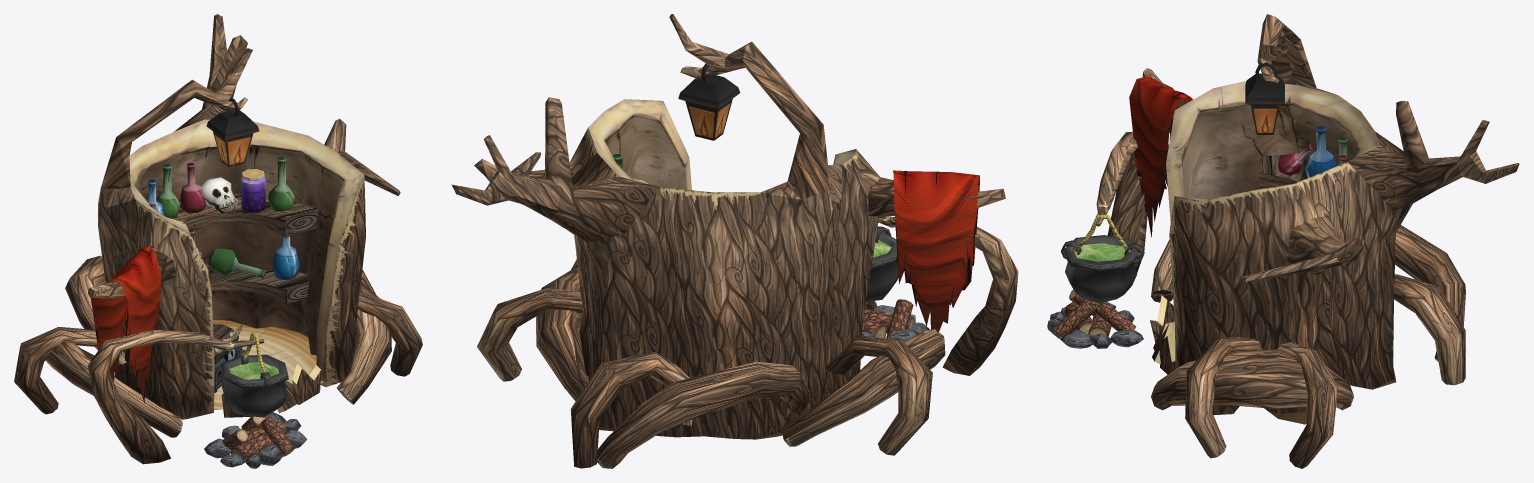
Rendered from Orc_Alchemist.FBX.
3 views of the same model, side by side, from view 1: azimuth 30°, elevation 25°; view 2: azimuth 150°, elevation 25°; view 3: azimuth 270°, elevation 25° (orthographic). The views are drawn at different scales.
Parts seen in each view (by area): view 1: trunk, Roots, poisons, flag, shelfs, Cauldron001, Lantern, Firewood001, mine_stones002, skull018, Poison001, chest_wood; view 2: trunk, Roots, flag, Lantern, Cauldron001, Firewood001; view 3: trunk, Roots, flag, Cauldron001, Firewood001, Lantern, poisons, mine_stones002, shelfs, Poison001.
Part boxes in pixels (left/top/right/bottom): trunk: left=88, top=14, right=400, bottom=419; Roots: left=14, top=255, right=422, bottom=464; poisons: left=147, top=156, right=299, bottom=279; flag: left=91, top=246, right=160, bottom=403; shelfs: left=172, top=194, right=318, bottom=304; Cauldron001: left=220, top=349, right=288, bottom=417; Lantern: left=206, top=98, right=259, bottom=166; Firewood001: left=222, top=416, right=294, bottom=462; mine_stones002: left=204, top=412, right=306, bottom=468; skull018: left=201, top=177, right=238, bottom=213; Poison001: left=229, top=362, right=278, bottom=379; chest_wood: left=213, top=324, right=238, bottom=389; trunk: left=452, top=14, right=1005, bottom=439; Roots: left=477, top=216, right=1018, bottom=468; flag: left=893, top=170, right=979, bottom=331; Lantern: left=678, top=63, right=740, bottom=140; Cauldron001: left=866, top=226, right=898, bottom=301; Firewood001: left=862, top=299, right=913, bottom=338; trunk: left=1142, top=14, right=1519, bottom=424; Roots: left=1096, top=132, right=1465, bottom=468; flag: left=1129, top=76, right=1192, bottom=237; Cauldron001: left=1061, top=235, right=1144, bottom=303; Firewood001: left=1052, top=289, right=1136, bottom=340; Lantern: left=1245, top=62, right=1284, bottom=134; poisons: left=1278, top=126, right=1347, bottom=178; mine_stones002: left=1047, top=301, right=1143, bottom=348; shelfs: left=1259, top=155, right=1307, bottom=188; Poison001: left=1074, top=243, right=1125, bottom=261.
Size of the model in its own units: 4363 by 4440 by 3777.
